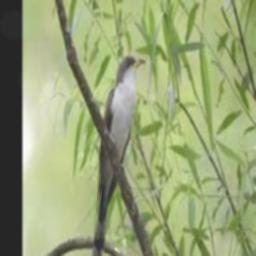Cuckoo: (90, 55, 145, 256)
